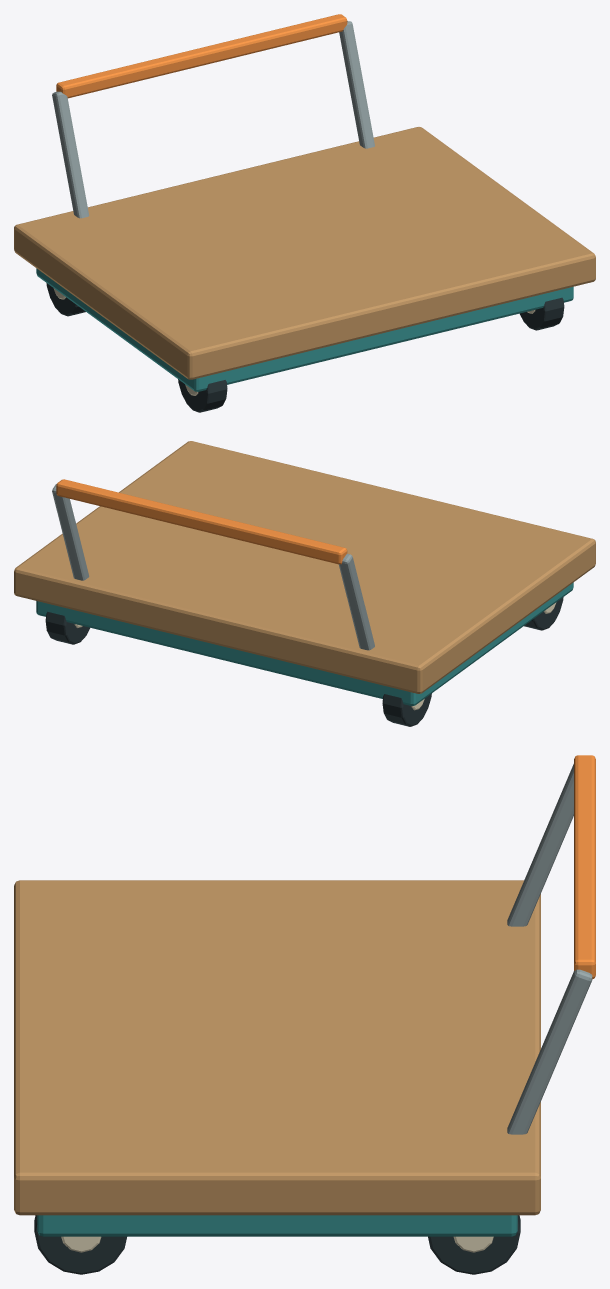
The model's file is S078_scenery_wagon.glb.
The picture shows the model from 3 angles, top to bottom: view 1: azimuth 30°, elevation 25°; view 2: azimuth 150°, elevation 25°; view 3: azimuth 270°, elevation 25°; orthographic projection. The views are drawn at different scales.
Parts seen in each view (by area): view 1: wagon_deck, wagon_frame, push_grip, push_stem, push_stem.001, wagon_wheel_tire, wagon_wheel_tire.002; view 2: wagon_deck, wagon_frame, push_grip, push_stem, push_stem.001, wagon_wheel_tire.001, wagon_wheel_tire.003, wagon_wheel_tire; view 3: wagon_deck, wagon_frame, push_grip, push_stem.001, push_stem, wagon_wheel_tire.002, wagon_wheel_tire.003.
Boxes of the visible parts, left/top/right/bottom form: wagon_deck: left=14, top=127, right=595, bottom=379; wagon_frame: left=36, top=268, right=573, bottom=391; push_grip: left=56, top=14, right=347, bottom=98; push_stem: left=52, top=91, right=89, bottom=218; push_stem.001: left=339, top=21, right=374, bottom=148; wagon_wheel_tire: left=178, top=379, right=227, bottom=412; wagon_wheel_tire.002: left=520, top=297, right=564, bottom=330; wagon_deck: left=14, top=441, right=595, bottom=693; wagon_frame: left=36, top=582, right=573, bottom=705; push_grip: left=56, top=479, right=347, bottom=564; push_stem: left=338, top=553, right=374, bottom=650; push_stem.001: left=52, top=484, right=89, bottom=580; wagon_wheel_tire.001: left=382, top=693, right=431, bottom=726; wagon_wheel_tire.003: left=45, top=611, right=89, bottom=644; wagon_wheel_tire: left=524, top=597, right=563, bottom=630; wagon_deck: left=14, top=880, right=540, bottom=1215; wagon_frame: left=37, top=1215, right=517, bottom=1236; push_grip: left=574, top=755, right=595, bottom=979; push_stem.001: left=507, top=969, right=592, bottom=1134; push_stem: left=507, top=764, right=573, bottom=926; wagon_wheel_tire.002: left=34, top=1215, right=126, bottom=1274; wagon_wheel_tire.003: left=428, top=1215, right=520, bottom=1274.
Bounding box in the file's own units: 2.4 × 1.09 × 1.99.
